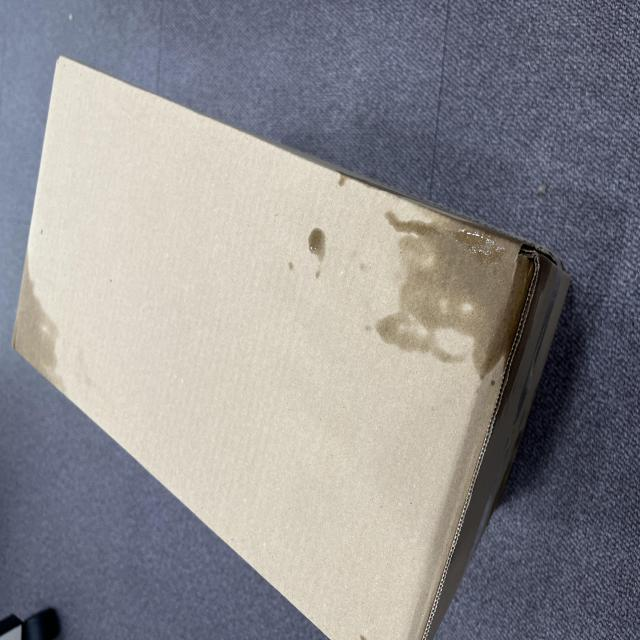wet: (192, 500, 322, 640), (203, 18, 288, 85)
